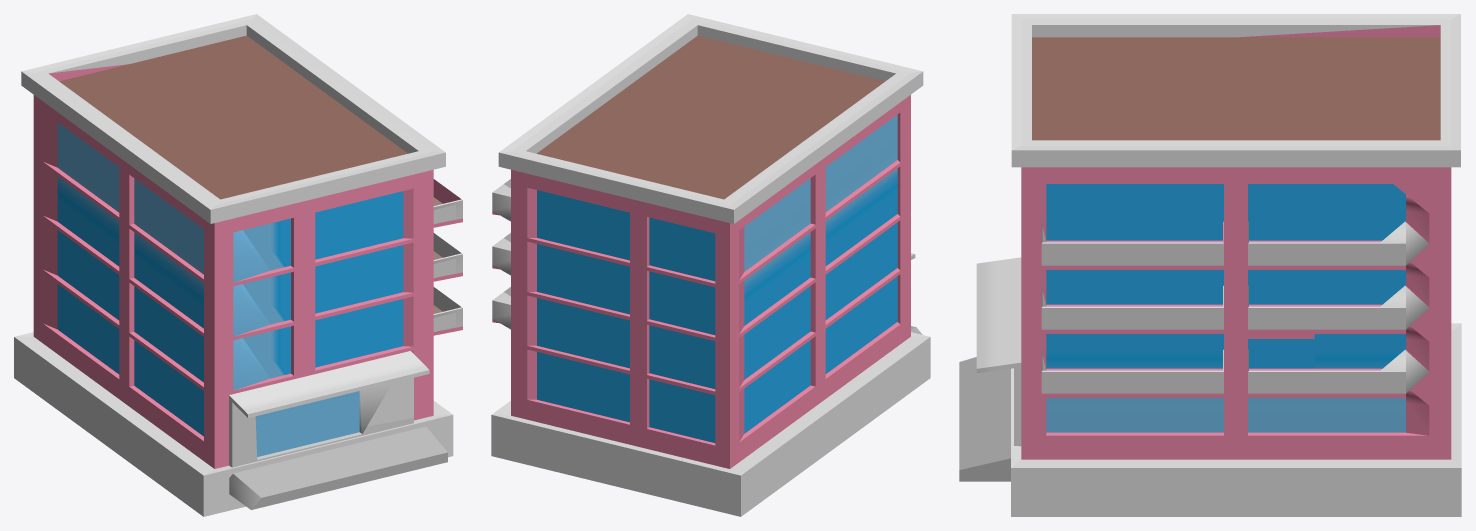
Rendered from PinkBuilding6x4x6.fbx.
The picture shows the model from 3 angles, left to right: view 1: azimuth 30°, elevation 25°; view 2: azimuth 150°, elevation 25°; view 3: azimuth 270°, elevation 25°; orthographic projection. The views are drawn at different scales.
Visible parts, largest first — view 1: House; view 2: House; view 3: House.
Part boxes in pixels (x1,y1,x2,y2): House: [14, 14, 462, 516]; House: [491, 14, 930, 516]; House: [959, 14, 1461, 516].
Size of the model in its own units: 5.57 by 5.97 by 7.5.
Materials: 1 (1 with a texture image).
